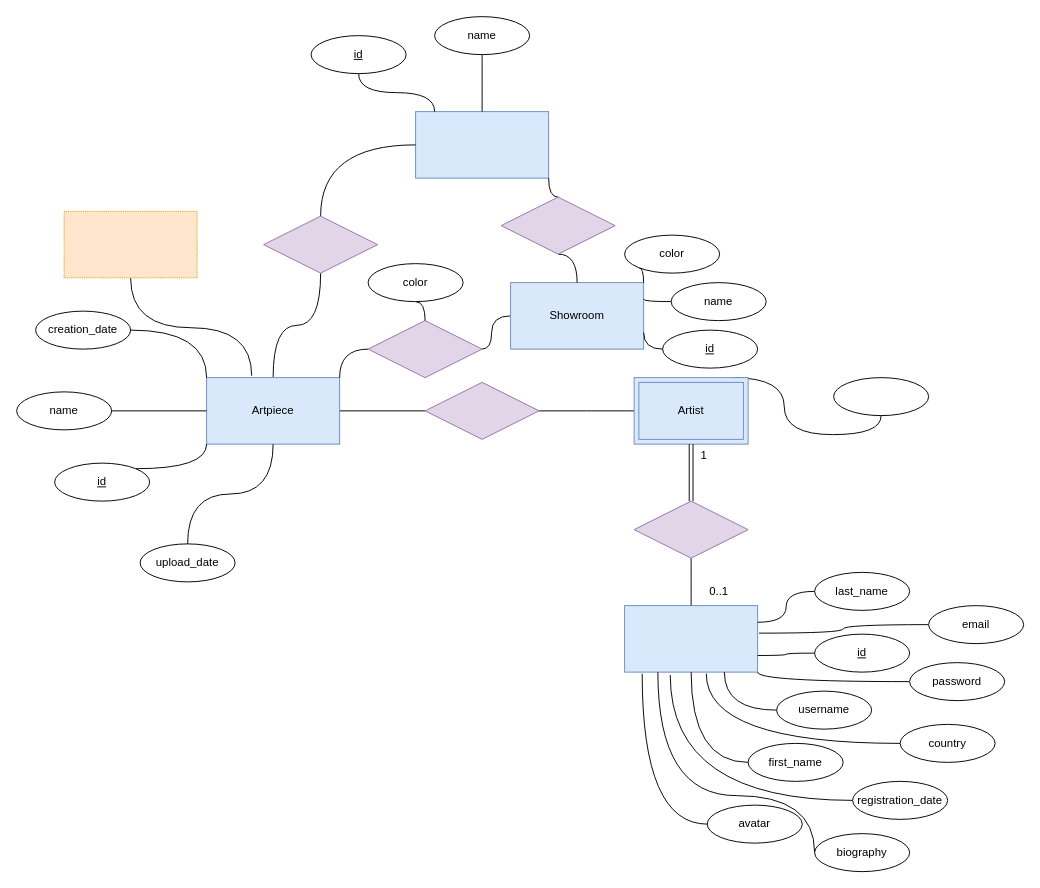
This 1040x888 diagram has some shape labels left out. Each missing label, with the box of its shape:
artist_name: (833, 377, 929, 416)
created_by: (424, 381, 539, 439)
defined_by: (500, 196, 615, 254)
displayed_in: (367, 320, 482, 378)
has_a: (263, 215, 378, 273)
is_a: (633, 500, 748, 558)
Tag: (415, 111, 549, 178)
Typ (Enum) { AUDIO, 2D_VISUAL, 3D_VISUAL; }: (63, 210, 197, 278)
User: (624, 605, 758, 672)
